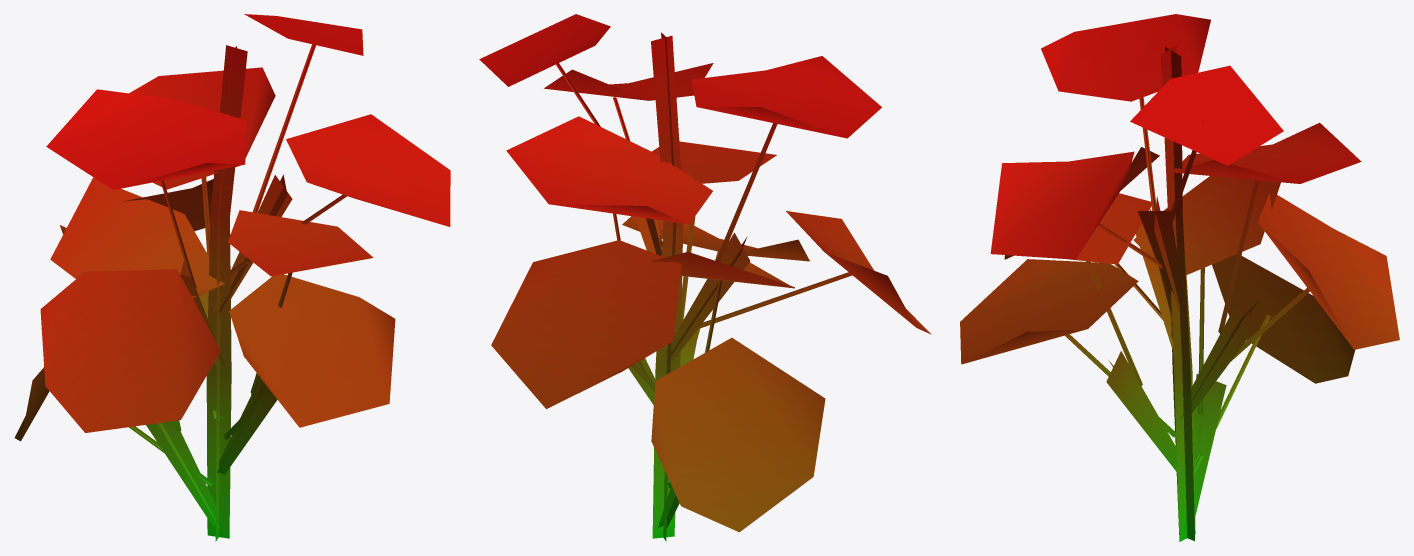
File: Var4_LOD4.fbx
The picture shows the model from 3 angles, left to right: view 1: azimuth 30°, elevation 25°; view 2: azimuth 150°, elevation 25°; view 3: azimuth 270°, elevation 25°; orthographic projection.
Parts seen in each view (by area): view 1: _b2a3_Var4_LOD4; view 2: _b2a3_Var4_LOD4; view 3: _b2a3_Var4_LOD4.
Boxes of the visible parts, bbox=[...] form: _b2a3_Var4_LOD4: bbox=[14, 14, 450, 541]; _b2a3_Var4_LOD4: bbox=[479, 14, 931, 541]; _b2a3_Var4_LOD4: bbox=[960, 14, 1399, 541].
Size of the model in its own units: 66.46 by 81.02 by 65.17.
